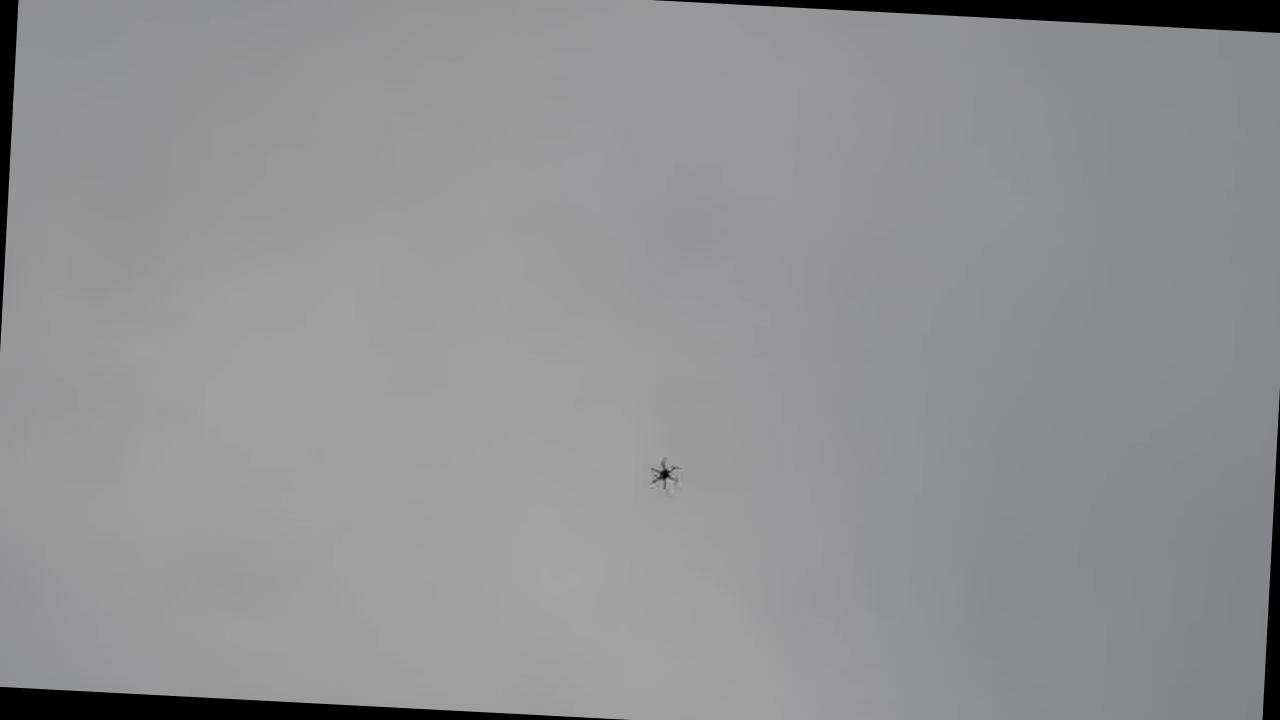drone: (642, 448, 682, 492)
